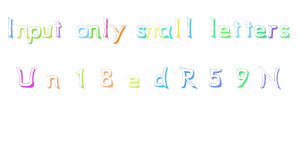1: (73, 65, 87, 89)
5: (208, 66, 224, 89)
8: (99, 66, 115, 90)
9: (234, 66, 249, 91)
I: (4, 16, 21, 41)
N: (257, 63, 283, 91)
R: (179, 64, 198, 91)
U: (16, 66, 37, 89)
a: (157, 22, 174, 40)
d: (153, 66, 170, 90)
e: (217, 23, 233, 40), (127, 73, 140, 89), (254, 23, 266, 39)
l: (183, 15, 196, 39), (100, 14, 111, 39), (173, 16, 184, 39), (208, 15, 217, 39)
m: (144, 23, 162, 40)
n: (45, 72, 62, 91), (15, 22, 30, 40), (87, 23, 102, 40)
o: (74, 23, 90, 40)
p: (26, 22, 43, 46)
r: (267, 22, 279, 40)
s: (279, 22, 291, 41), (135, 23, 147, 40)
t: (52, 18, 64, 38), (232, 17, 242, 39), (243, 18, 253, 40)
u: (39, 22, 54, 39)
y: (110, 22, 126, 45)
